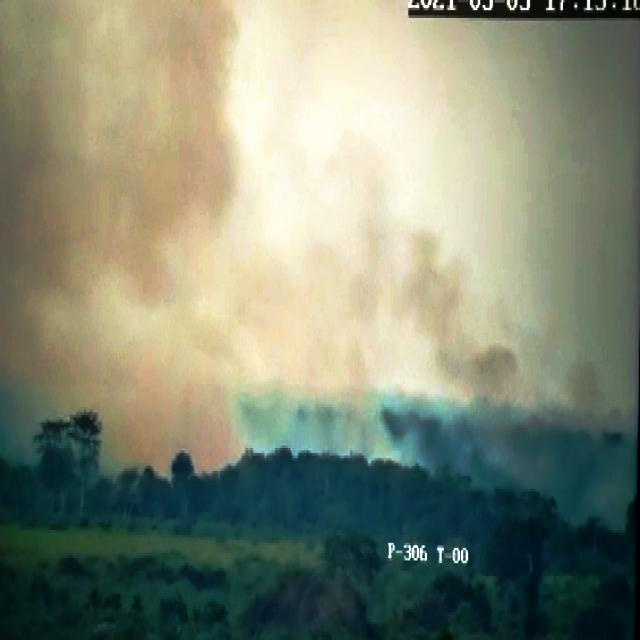asap: (1, 1, 252, 490), (237, 6, 433, 513), (395, 170, 553, 556), (565, 365, 638, 547)
